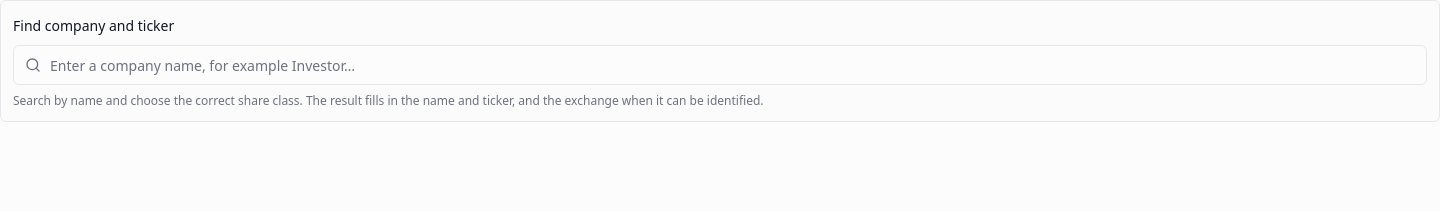
it: company name search › offers retry after failure and recovers without submitting the creation form
Later steps or results of the test are not shown.
Type "Cheffelo" into the dropdown at (720, 65), box 13,45 -> 1427,85
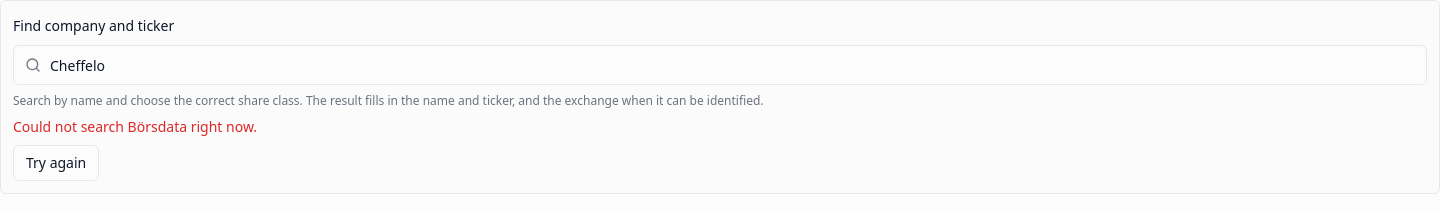
Expected: the message reads "Could not search Börsdata right now.", 13,117 -> 257,136
